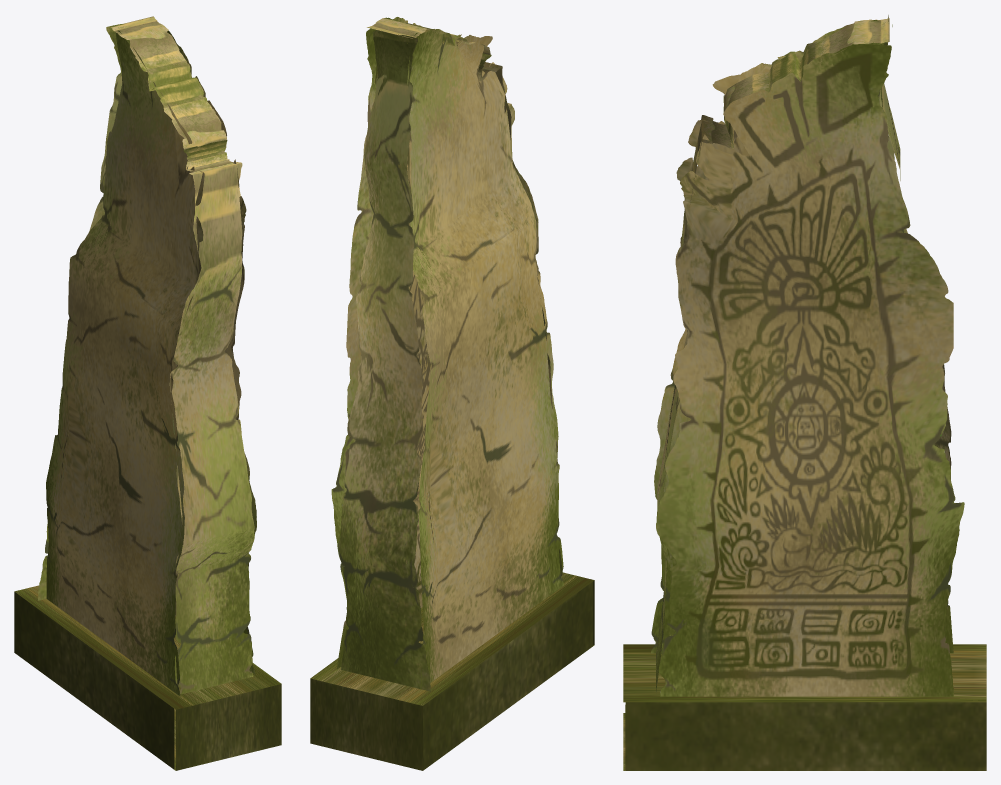
The model's file is Pillar Monument.fbx.
3 views of the same model, side by side, from view 1: azimuth 30°, elevation 25°; view 2: azimuth 150°, elevation 25°; view 3: azimuth 270°, elevation 25° (orthographic). The views are drawn at different scales.
Visible parts, largest first — view 1: Pillar3; view 2: Pillar3; view 3: Pillar3.
Part boxes in pixels (box(x1,y1,x2,y2)): Pillar3: box(14, 16, 281, 770); Pillar3: box(310, 17, 594, 770); Pillar3: box(623, 15, 986, 770).
Size of the model in its own units: 67.5 by 393 by 178.
